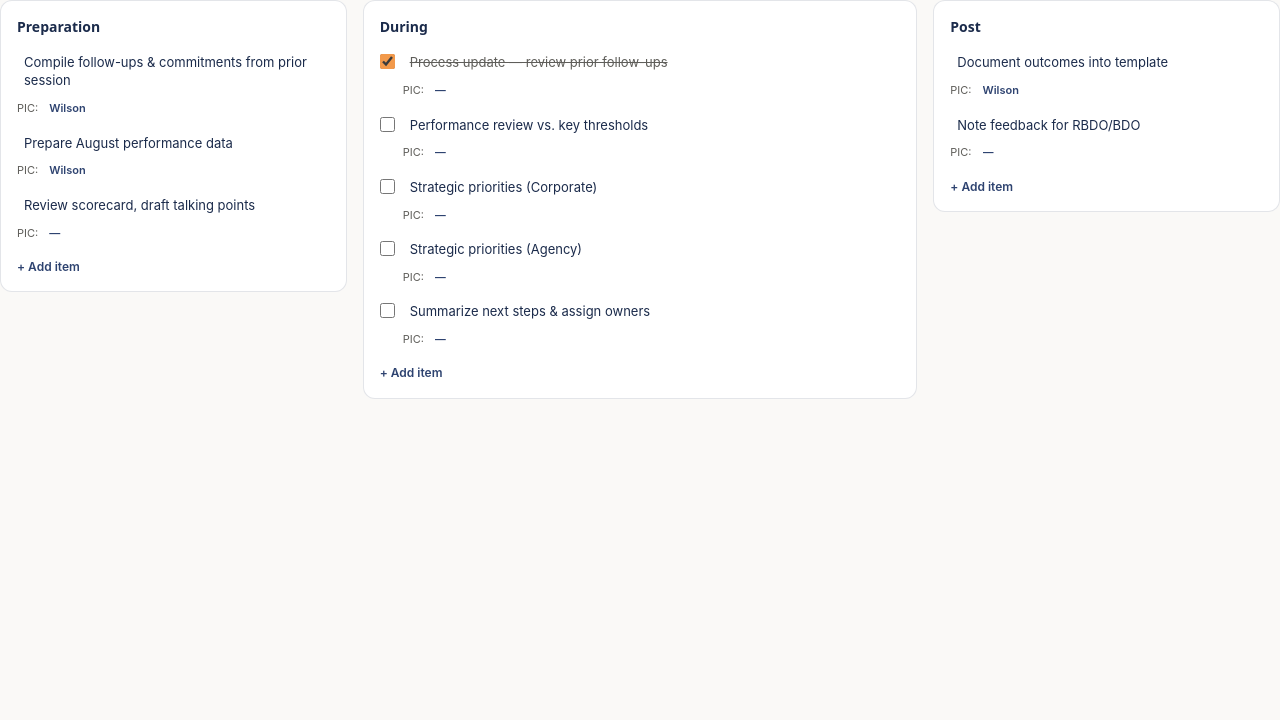
it: P18.1-T2 AC-5 writing the agenda › a tick that does not land goes back, and the failure line says so
Click the checkbox named "Performance review vs. key thresholds": (387,124) 380,116 -> 395,132
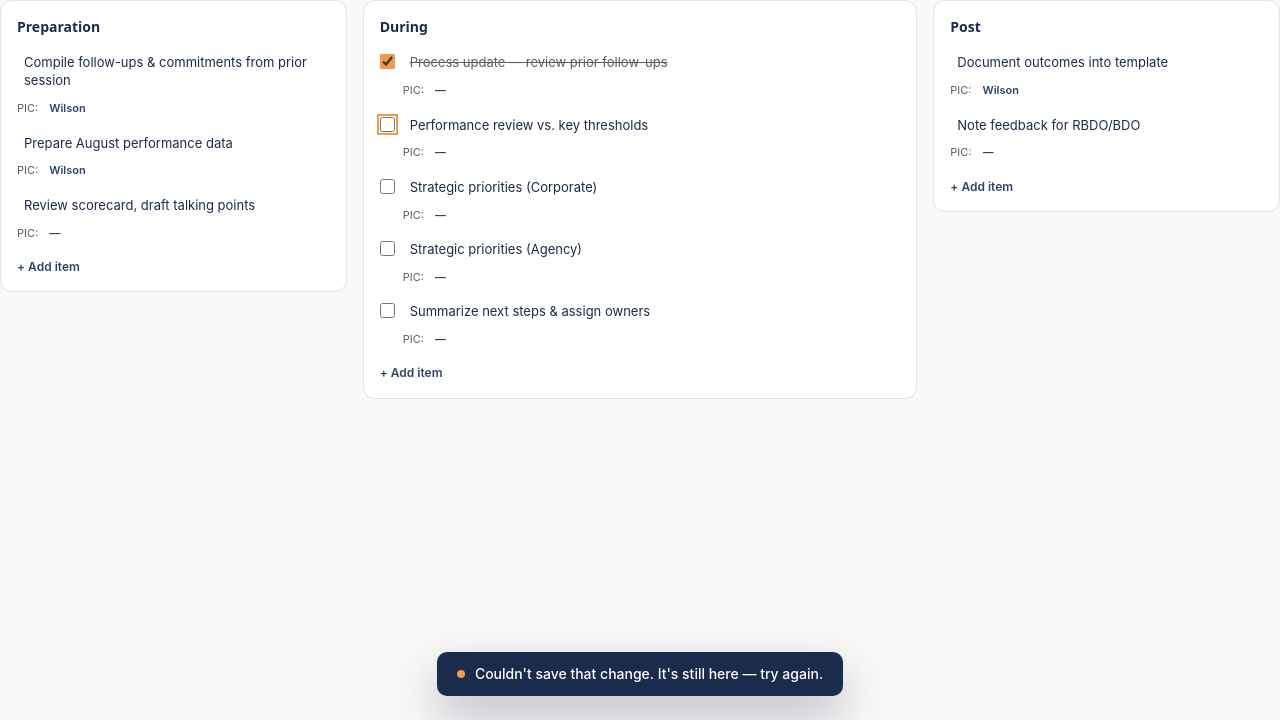
Result: the text "Couldn't save that change. It's still here — try again." is shown at 437,652 -> 843,696
